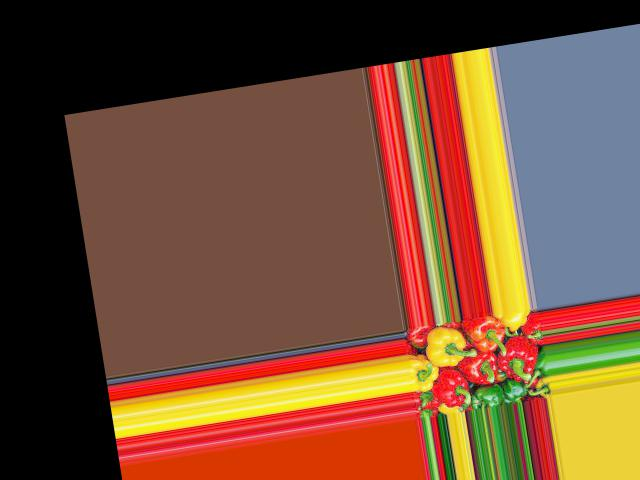bell_pepper: (502, 309, 528, 331)
